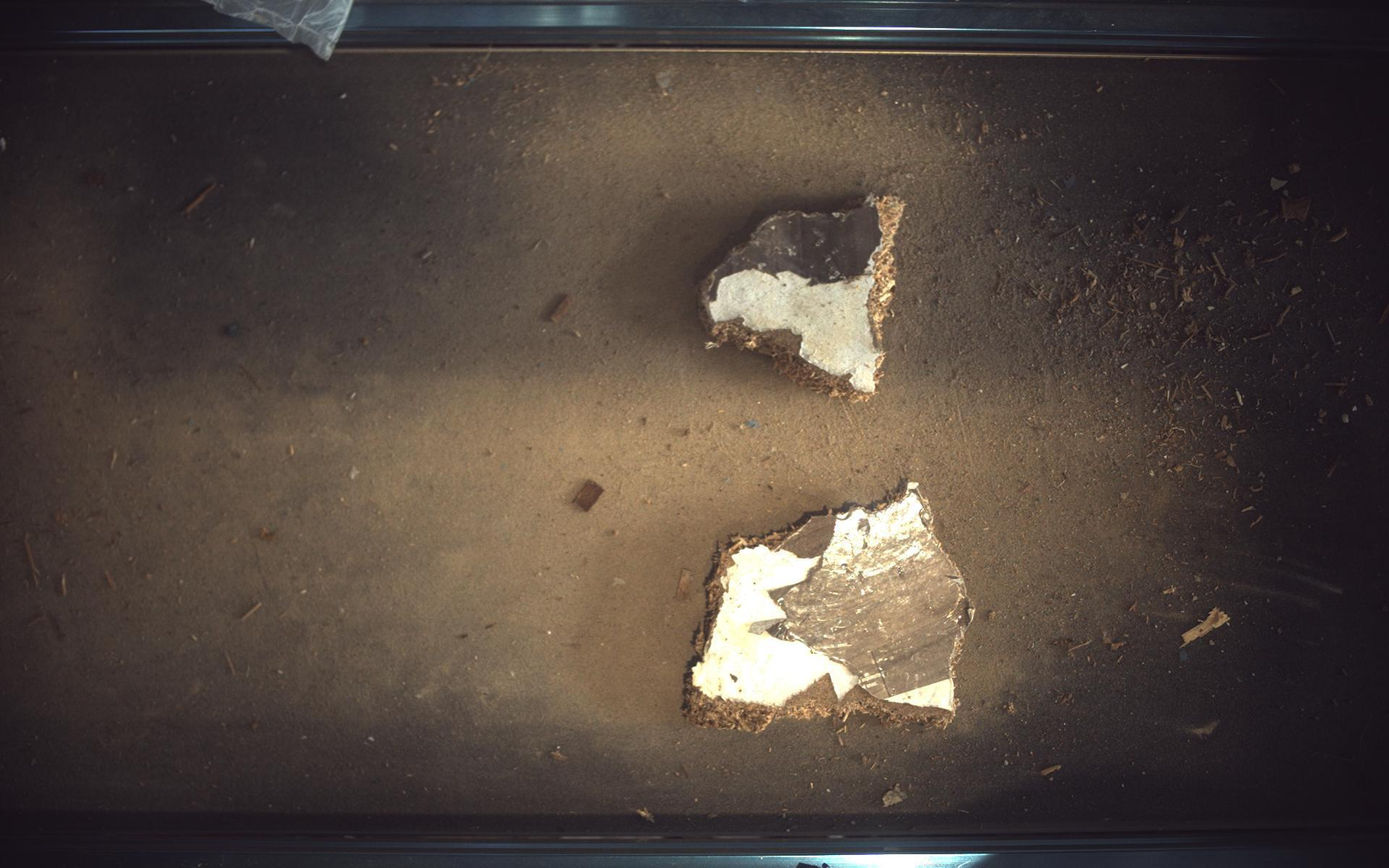wood: (687, 482, 976, 733), (701, 195, 906, 400)
